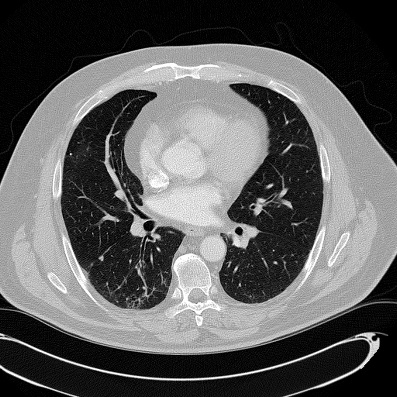PN: (99, 256, 103, 260)
